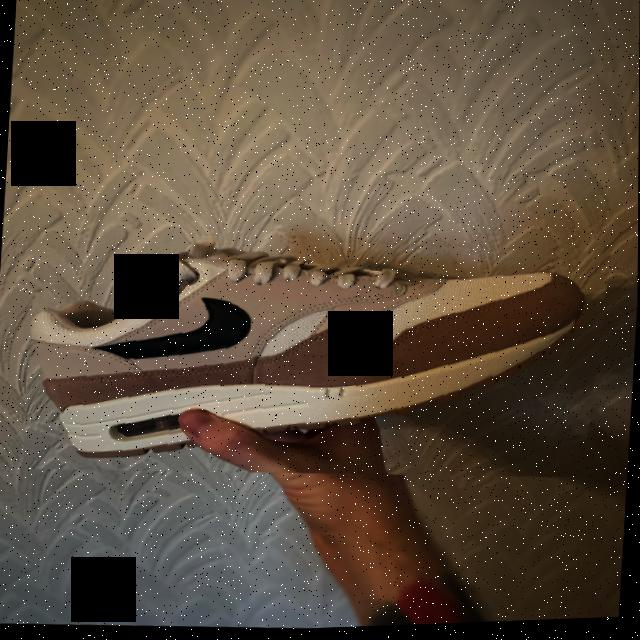shoe: (23, 215, 612, 500)
